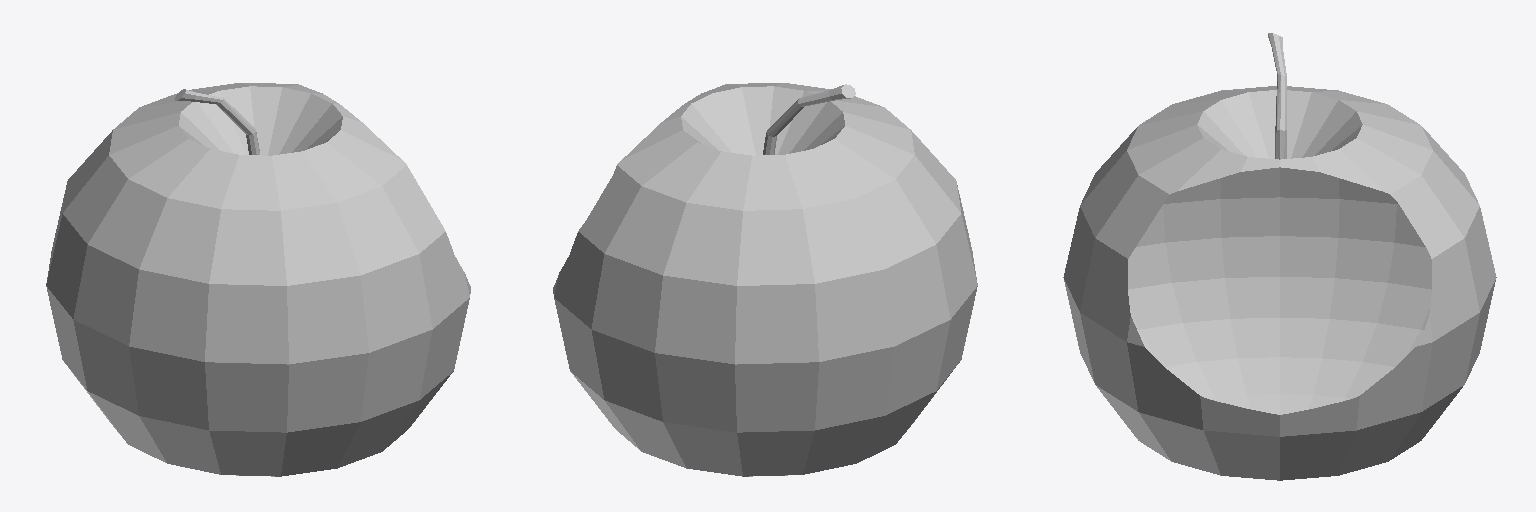
Rendered from AppleBitten.obj.
3 renders of one model, left to right at view 1: azimuth 30°, elevation 25°; view 2: azimuth 150°, elevation 25°; view 3: azimuth 270°, elevation 25°, orthographic.
Visible parts, largest first — view 1: Apple_Sphere.002; view 2: Apple_Sphere.002; view 3: Apple_Sphere.002.
Part boxes in pixels (left/top/right/bottom): Apple_Sphere.002: left=46, top=83, right=470, bottom=476; Apple_Sphere.002: left=553, top=83, right=977, bottom=476; Apple_Sphere.002: left=1063, top=33, right=1496, bottom=480.
Bounding box in the file's own units: 1.95 × 1.91 × 2.